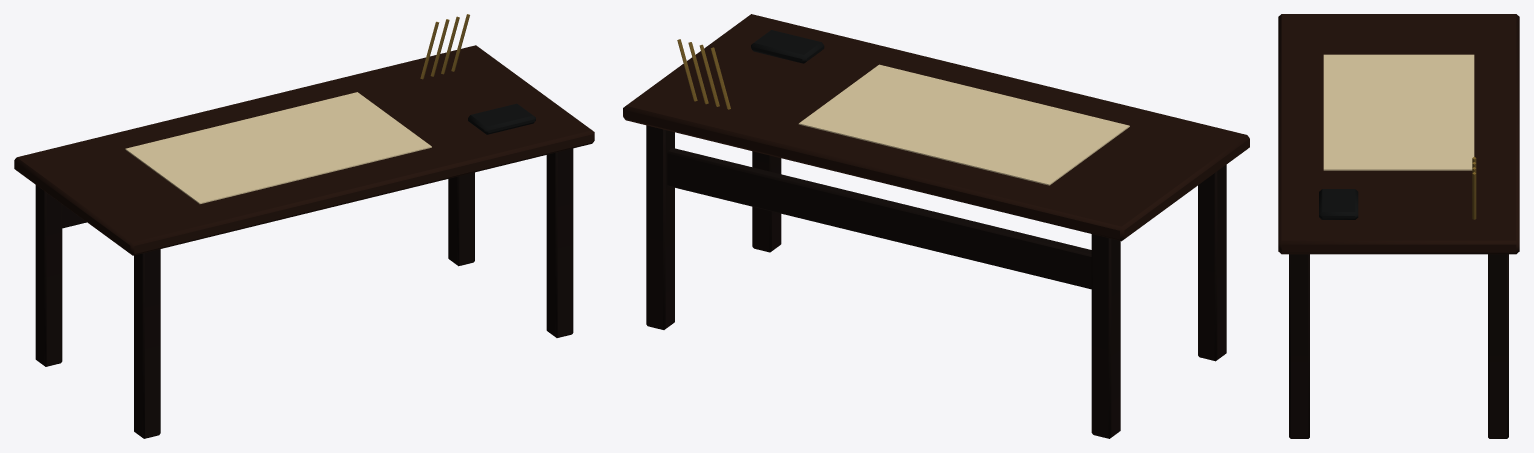
File: hz-calligraphy-desk.glb
3 renders of one model, left to right at view 1: azimuth 30°, elevation 25°; view 2: azimuth 150°, elevation 25°; view 3: azimuth 270°, elevation 25°, orthographic. The views are drawn at different scales.
Visible parts, largest first — view 1: table__wood, scroll__paper, inkstone__stone, brushes__bamboo; view 2: table__wood, scroll__paper, inkstone__stone, brushes__bamboo; view 3: table__wood, scroll__paper, inkstone__stone, brushes__bamboo.
Boxes of the visible parts, bbox=[...] form: table__wood: bbox=[14, 45, 594, 438]; scroll__paper: bbox=[125, 92, 431, 203]; inkstone__stone: bbox=[468, 103, 535, 134]; brushes__bamboo: bbox=[420, 14, 469, 79]; table__wood: bbox=[623, 14, 1249, 438]; scroll__paper: bbox=[798, 64, 1129, 185]; inkstone__stone: bbox=[751, 30, 824, 63]; brushes__bamboo: bbox=[677, 39, 730, 109]; table__wood: bbox=[1278, 14, 1519, 438]; scroll__paper: bbox=[1323, 54, 1474, 170]; inkstone__stone: bbox=[1319, 189, 1358, 219]; brushes__bamboo: bbox=[1472, 156, 1476, 219].
Bounding box in the file's own units: 1.8 × 0.9521 × 0.8.
